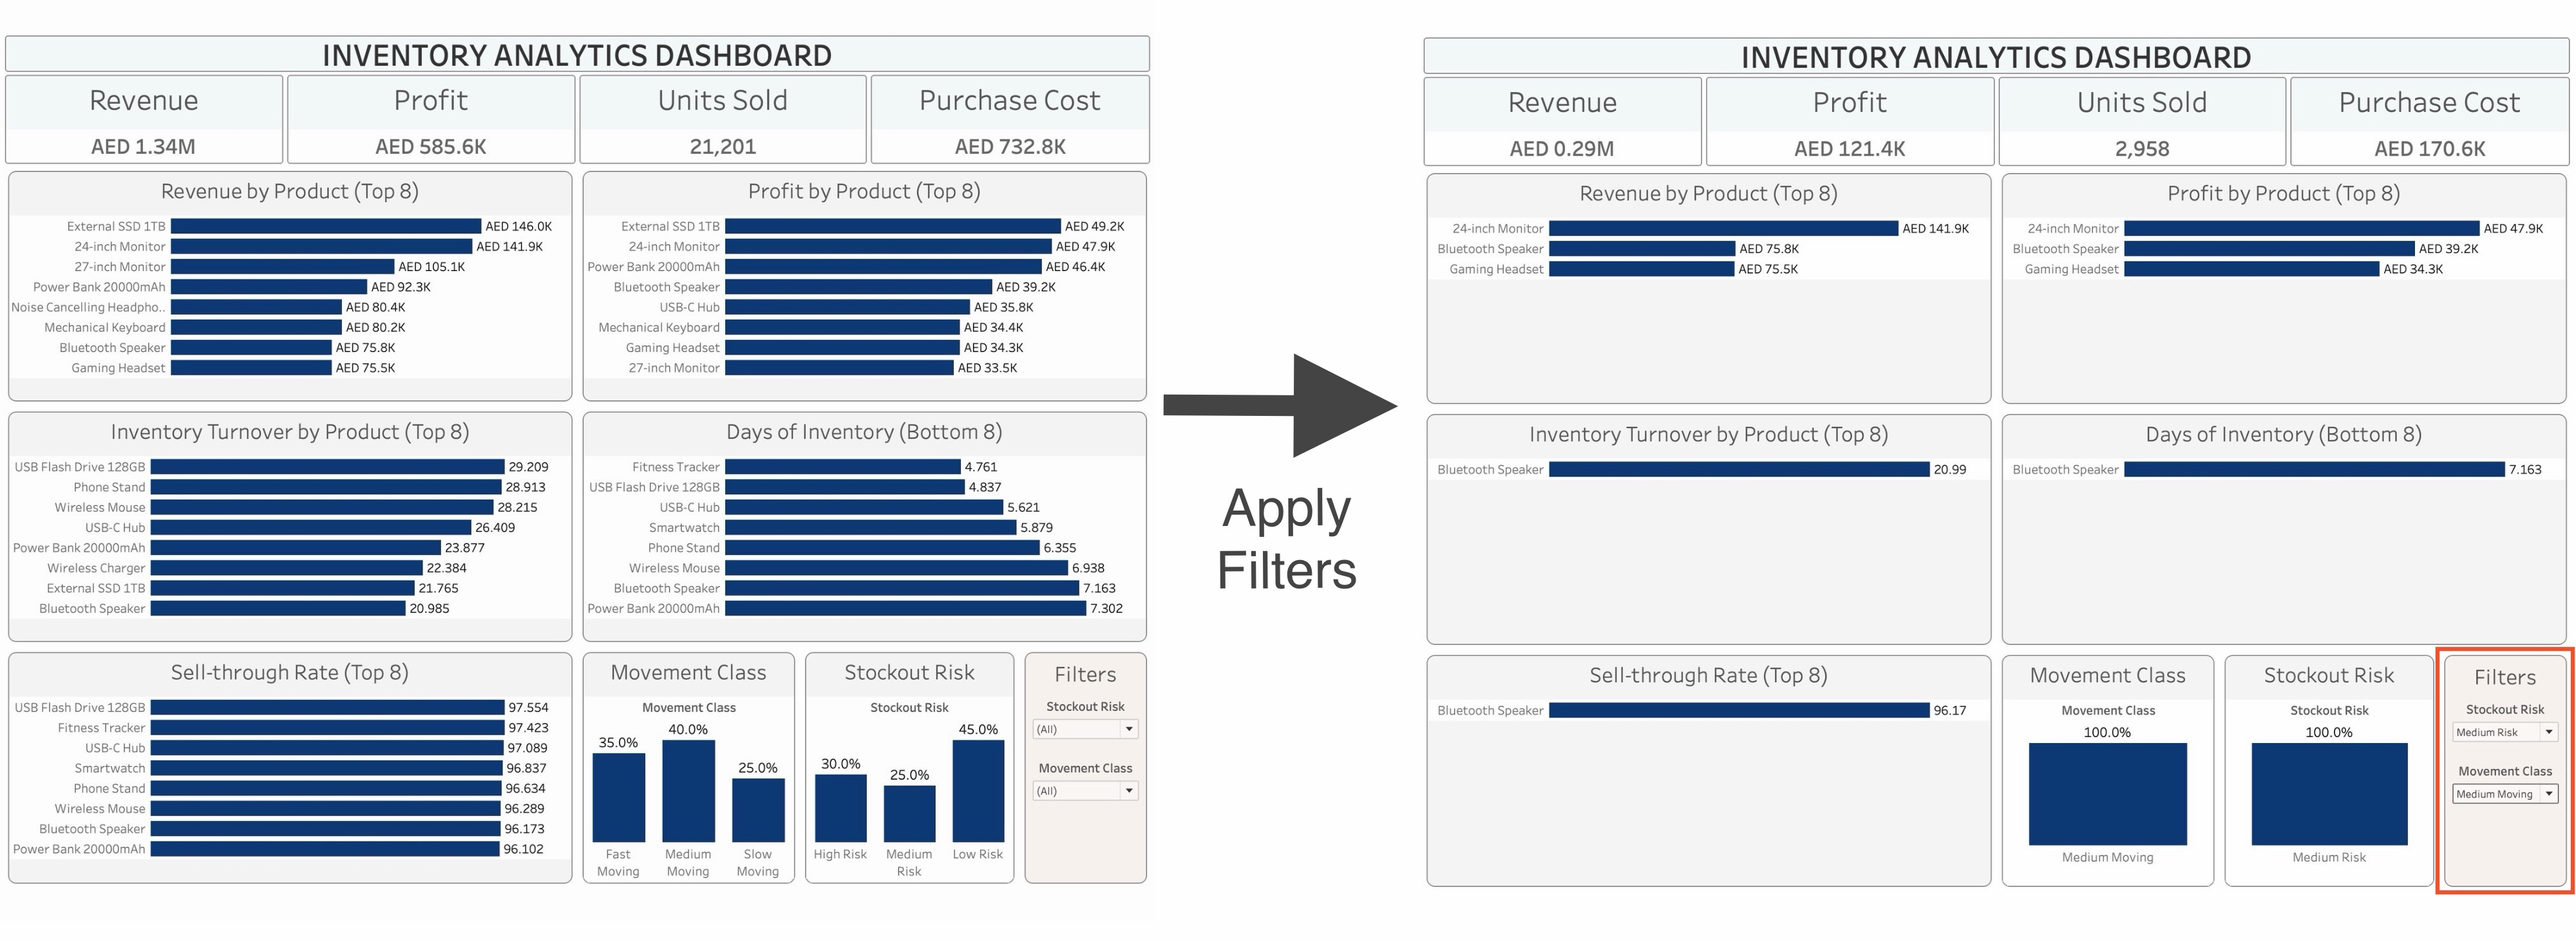

What the dashboard file says about the page in this screenshot:
{"tool":"tableau","page":{"name":"Dashboard","canvas":[1152,864],"ordinal":0},"visuals":[{"type":"text","box":[8,8,1136,41]},{"type":"worksheet","title":"Revenue","mark":"Automatic","box":[8,49,279.3,92]},{"type":"worksheet","title":"Profit","mark":"Automatic","box":[287.3,49,288.6,92]},{"type":"worksheet","title":"Units Sold","mark":"Automatic","box":[575.9,49,288.4,92]},{"type":"worksheet","title":"Purchase Cost","mark":"Automatic","box":[864.3,49,279.7,92]},{"type":"worksheet","title":"Revenue by Product (Top 8)","mark":"Automatic","rows":["product_name"],"cols":["revenue"],"box":[8,141,567.9,237.9]},{"type":"worksheet","title":"Profit by Product (Top 8)","mark":"Automatic","rows":["product_name"],"cols":["profit"],"box":[575.9,141,568.1,237.9]},{"type":"worksheet","title":"Inventory Turnover by Product (Top 8)","mark":"Automatic","rows":["product_name"],"cols":["inventory_turnover"],"box":[8,378.9,567.9,237.9]},{"type":"worksheet","title":"Days of Inventory (Bottom 8)","mark":"Automatic","rows":["product_name"],"cols":["days_of_inventory"],"box":[575.9,378.9,568.1,237.9]},{"type":"worksheet","title":"Sell-through Rate (Top 8)","mark":"Automatic","rows":["product_name"],"cols":["sell_through_rate"],"box":[8,616.8,567.9,239.2]},{"type":"worksheet","title":"Movement Class","mark":"Automatic","cols":["movement_class"],"box":[575.9,616.8,219.7,239.2]},{"type":"worksheet","title":"Stockout Risk","mark":"Bar","cols":["stockout_risk"],"box":[795.6,616.8,217.5,239.2]},{"type":"text","box":[1019.1,622.8,118.9,40]},{"type":"filter","title":"Revenue by Product (Top 8)","param":"[federated.18xj0n21gu4cdx147903r1pb1vnp].[none:stockout_risk:nk]","box":[1019.1,662.8,118.9,61]},{"type":"filter","title":"Revenue by Product (Top 8)","param":"[federated.18xj0n21gu4cdx147903r1pb1vnp].[none:movement_class:nk]","box":[1019.1,723.8,118.9,116]}]}

Visuals, with their boxes on the page's 1152x864 design canvas (x1, y1, x2, y2). These are canvas units, not pixel positions in the 2576x940 screenshot, which may show the page scaled, cropped or inside an application window:
text: detection(8, 8, 1144, 49)
"Revenue" worksheet: detection(8, 49, 287, 141)
"Profit" worksheet: detection(287, 49, 576, 141)
"Units Sold" worksheet: detection(576, 49, 864, 141)
"Purchase Cost" worksheet: detection(864, 49, 1144, 141)
"Revenue by Product (Top 8)" worksheet: detection(8, 141, 576, 379)
"Profit by Product (Top 8)" worksheet: detection(576, 141, 1144, 379)
"Inventory Turnover by Product (Top 8)" worksheet: detection(8, 379, 576, 617)
"Days of Inventory (Bottom 8)" worksheet: detection(576, 379, 1144, 617)
"Sell-through Rate (Top 8)" worksheet: detection(8, 617, 576, 856)
"Movement Class" worksheet: detection(576, 617, 796, 856)
"Stockout Risk" worksheet (Bar marks): detection(796, 617, 1013, 856)
text: detection(1019, 623, 1138, 663)
"Revenue by Product (Top 8)" filter: detection(1019, 663, 1138, 724)
"Revenue by Product (Top 8)" filter: detection(1019, 724, 1138, 840)
